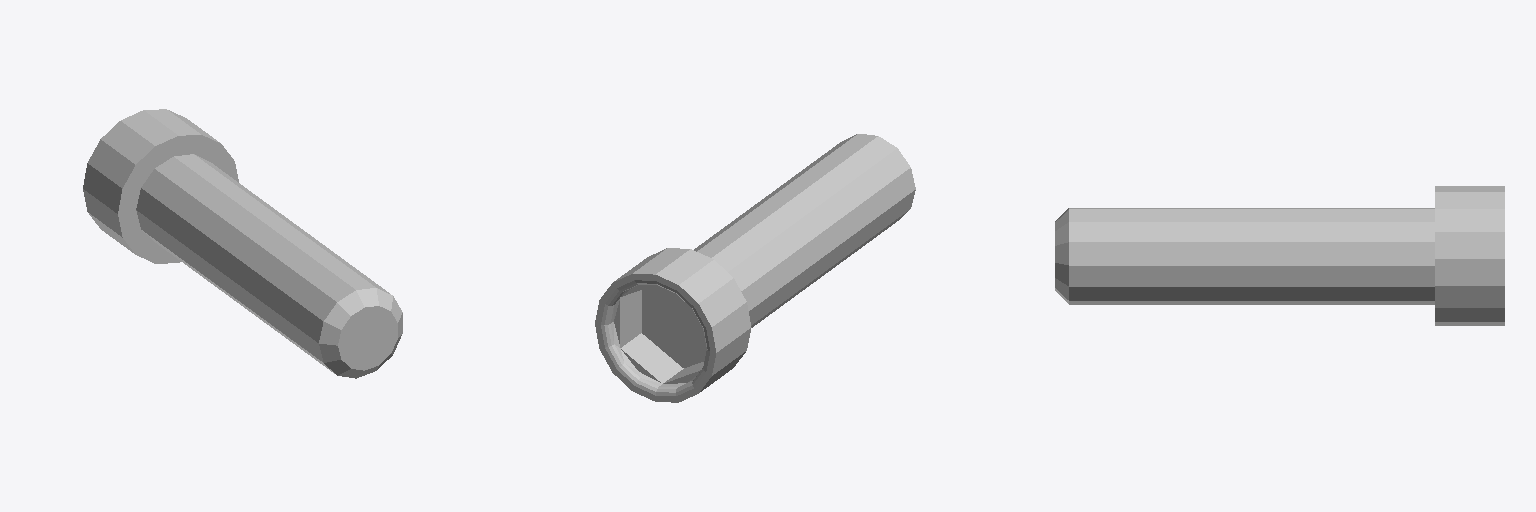
Rendered from Болт крепления водяного насоса.obj.
3 views of the same model, side by side, from view 1: azimuth 30°, elevation 25°; view 2: azimuth 150°, elevation 25°; view 3: azimuth 270°, elevation 25° (orthographic).
Parts seen in each view (by area): view 1: Болт_крепления_водяного_насоса; view 2: Болт_крепления_водяного_насоса; view 3: Болт_крепления_водяного_насоса.
Boxes of the visible parts, x1,y1,x2,y2 form: Болт_крепления_водяного_насоса: [83, 109, 402, 378]; Болт_крепления_водяного_насоса: [595, 134, 915, 402]; Болт_крепления_водяного_насоса: [1055, 186, 1504, 325].
Size of the model in its own units: 10 by 10 by 32.